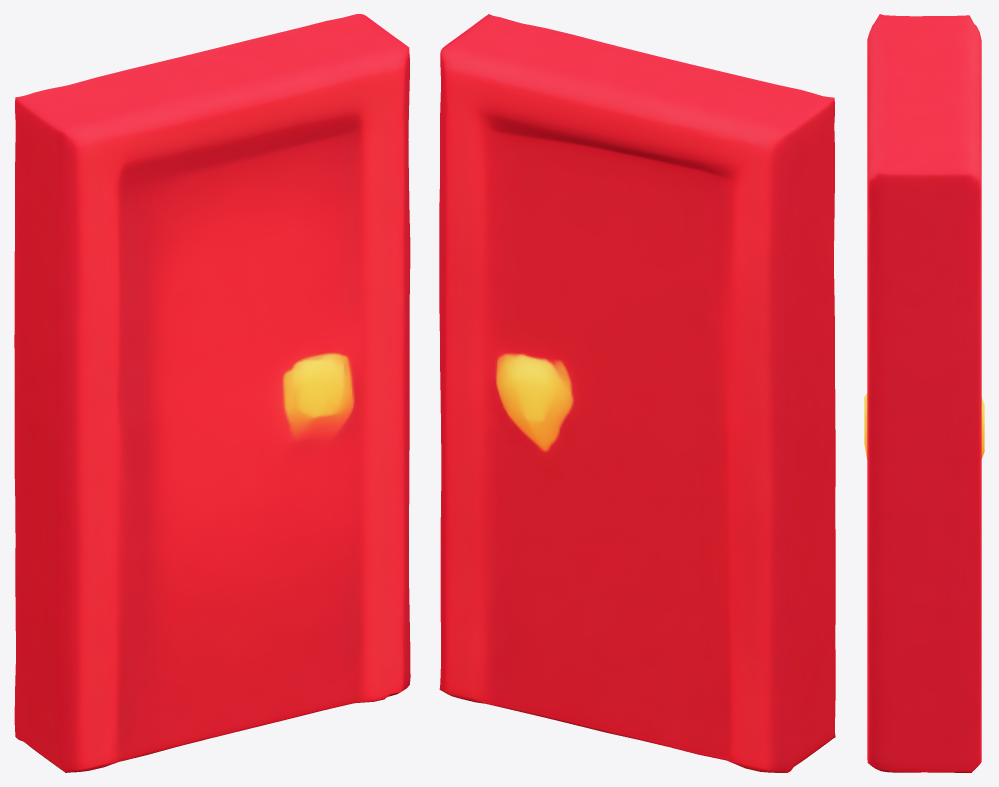
The model's file is 01-door.fbx.
3 views of the same model, side by side, from view 1: azimuth 30°, elevation 25°; view 2: azimuth 150°, elevation 25°; view 3: azimuth 270°, elevation 25° (orthographic). The views are drawn at different scales.
Parts seen in each view (by area): view 1: model; view 2: model; view 3: model.
Part boxes in pixels (bbox=[...]): model: bbox=[14, 14, 410, 772]; model: bbox=[439, 14, 835, 772]; model: bbox=[864, 14, 984, 772].
Size of the model in its own units: 108 by 190 by 34.63.
